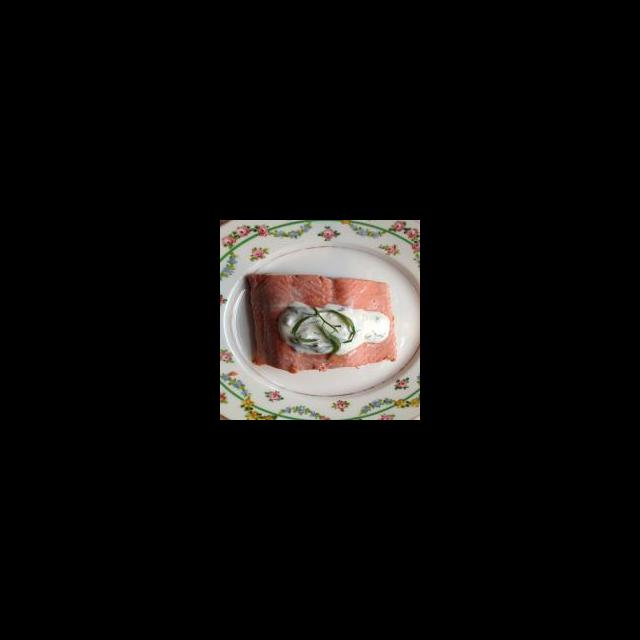ca hoi: (242, 270, 400, 376)
ca hoi sot pho mai kem: (220, 261, 420, 396)
pho mai: (281, 306, 415, 348)
